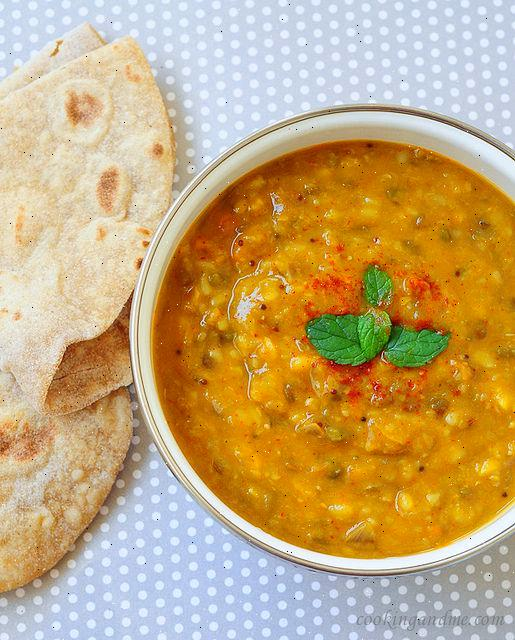daal: (147, 168, 515, 554)
roti phulka: (0, 33, 155, 600)
